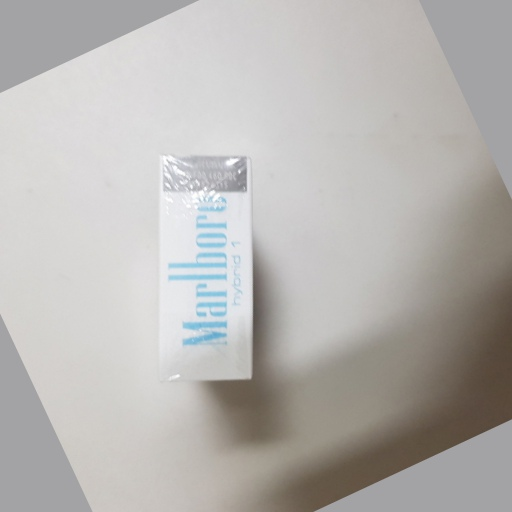Paper_0: (144, 140, 299, 436)
